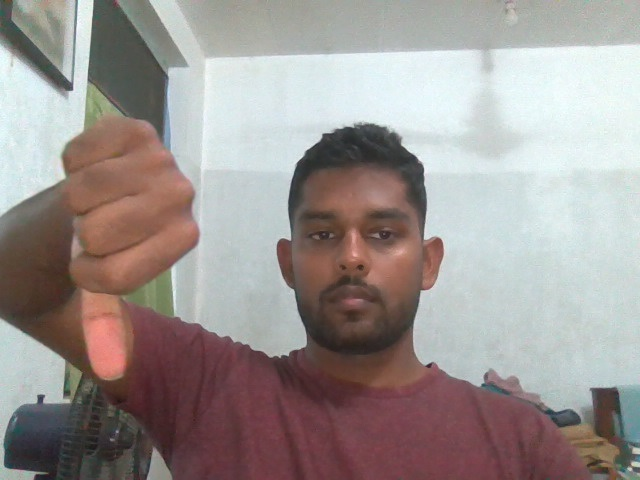dontlike: (45, 107, 211, 386)
